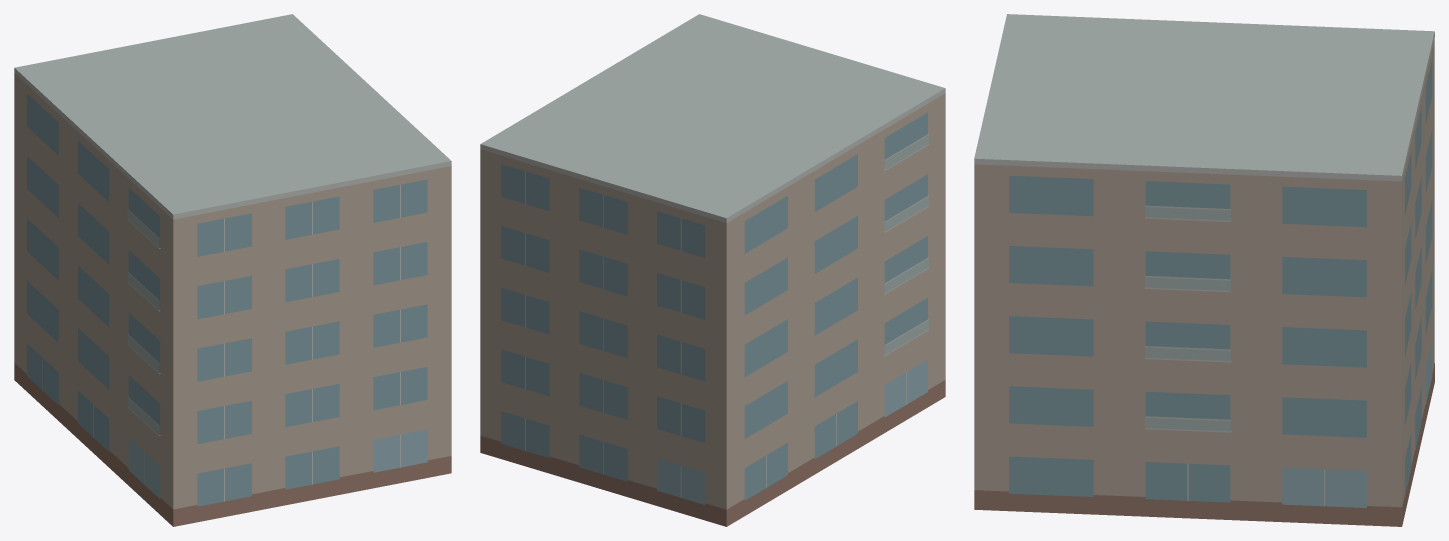
Rendered from survey-upis-32768496.glb.
3 views of the same model, side by side, from view 1: azimuth 30°, elevation 25°; view 2: azimuth 150°, elevation 25°; view 3: azimuth 270°, elevation 25° (orthographic). The views are drawn at different scales.
Parts seen in each view (by area): view 1: survey-upis-32768496.tmp; view 2: survey-upis-32768496.tmp; view 3: survey-upis-32768496.tmp.
Boxes of the visible parts, <box> form: survey-upis-32768496.tmp: <box>14,14,451,526</box>; survey-upis-32768496.tmp: <box>480,14,945,526</box>; survey-upis-32768496.tmp: <box>974,14,1434,526</box>.
Size of the model in its own units: 15.09 by 15.25 by 18.15.
